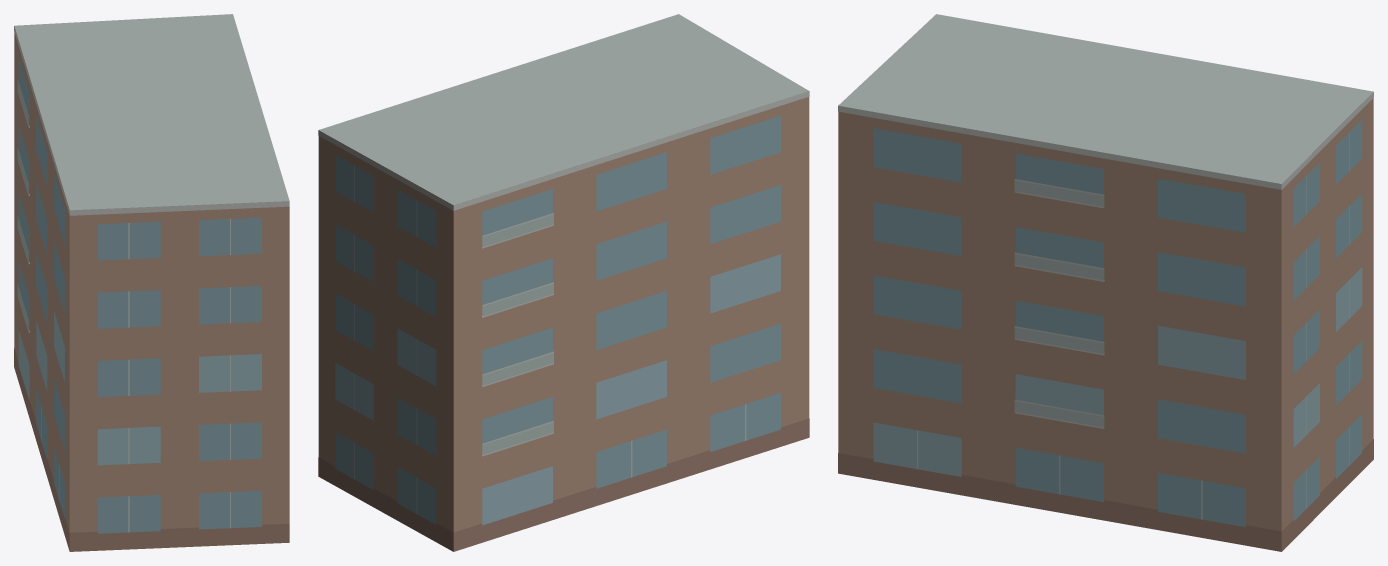
The model's file is survey-upis-32969445.glb.
3 renders of one model, left to right at view 1: azimuth 30°, elevation 25°; view 2: azimuth 150°, elevation 25°; view 3: azimuth 270°, elevation 25°, orthographic. The views are drawn at different scales.
Parts seen in each view (by area): view 1: survey-upis-32969445.tmp; view 2: survey-upis-32969445.tmp; view 3: survey-upis-32969445.tmp.
Boxes of the visible parts, x1,y1,x2,y2 form: survey-upis-32969445.tmp: (14, 14, 289, 551); survey-upis-32969445.tmp: (318, 14, 809, 551); survey-upis-32969445.tmp: (838, 14, 1373, 551).
Size of the model in its own units: 15.13 by 15.25 by 20.14.
